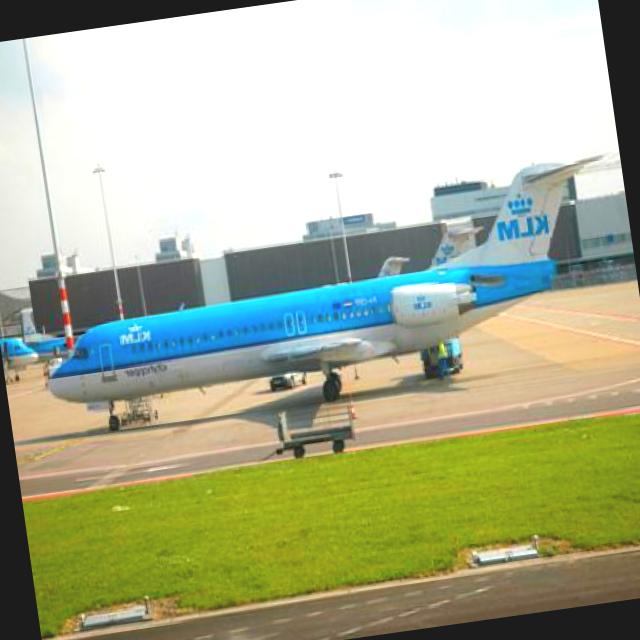Person: (432, 336, 452, 382)
